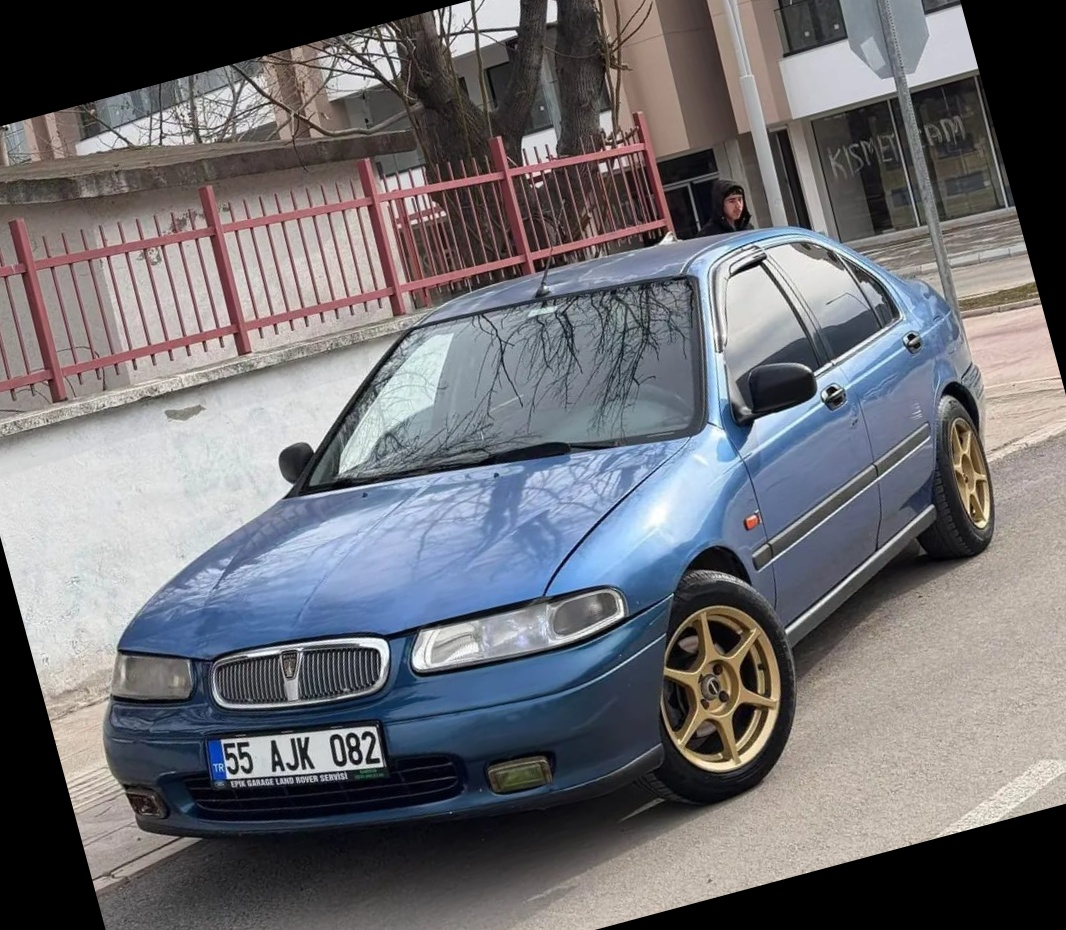plaka: (220, 720, 386, 783)
